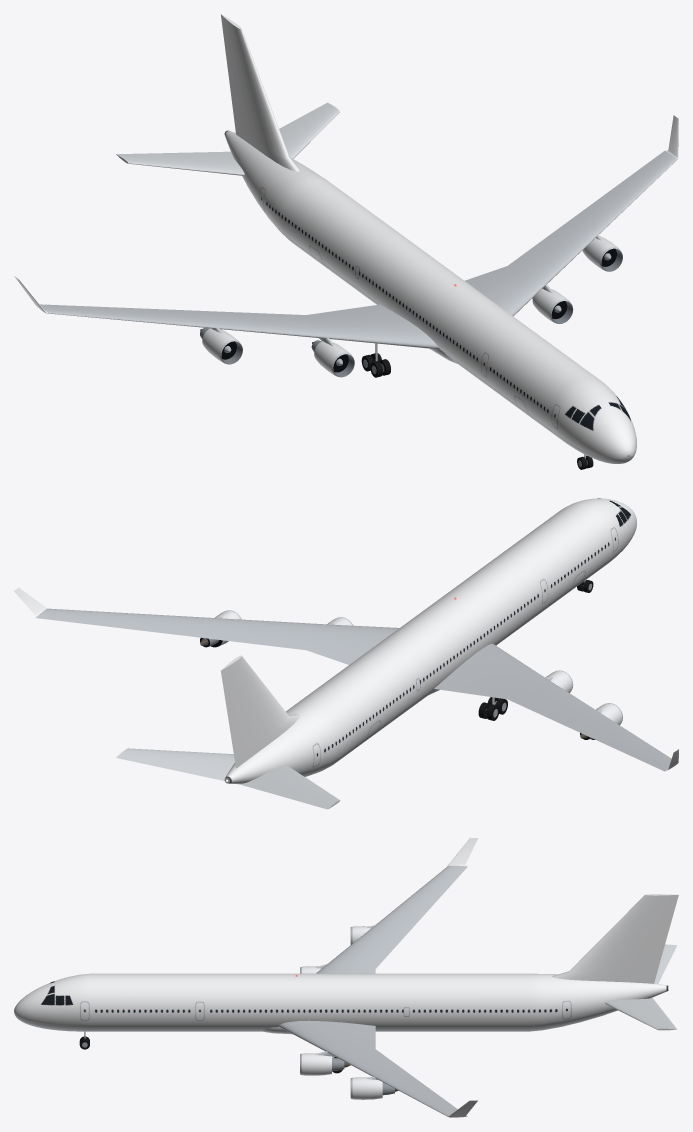
3 renders of one model, top to bottom at view 1: azimuth 30°, elevation 25°; view 2: azimuth 150°, elevation 25°; view 3: azimuth 270°, elevation 25°, orthographic. The views are drawn at different scales.
Visible parts, largest first — view 1: body, gear; view 2: body, gear; view 3: body.
Part boxes in pixels (box(x1,y1,x2,y2)): body: box(14, 14, 678, 463); gear: box(361, 343, 593, 469); body: box(14, 498, 678, 809); gear: box(478, 580, 593, 720); body: box(14, 838, 678, 1117).
Bounding box in the file's own units: 60.47 × 16.4 × 64.7.
Materials: 19 (1 with a texture image).
